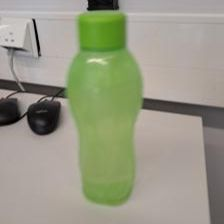bottle: (62, 9, 147, 208)
